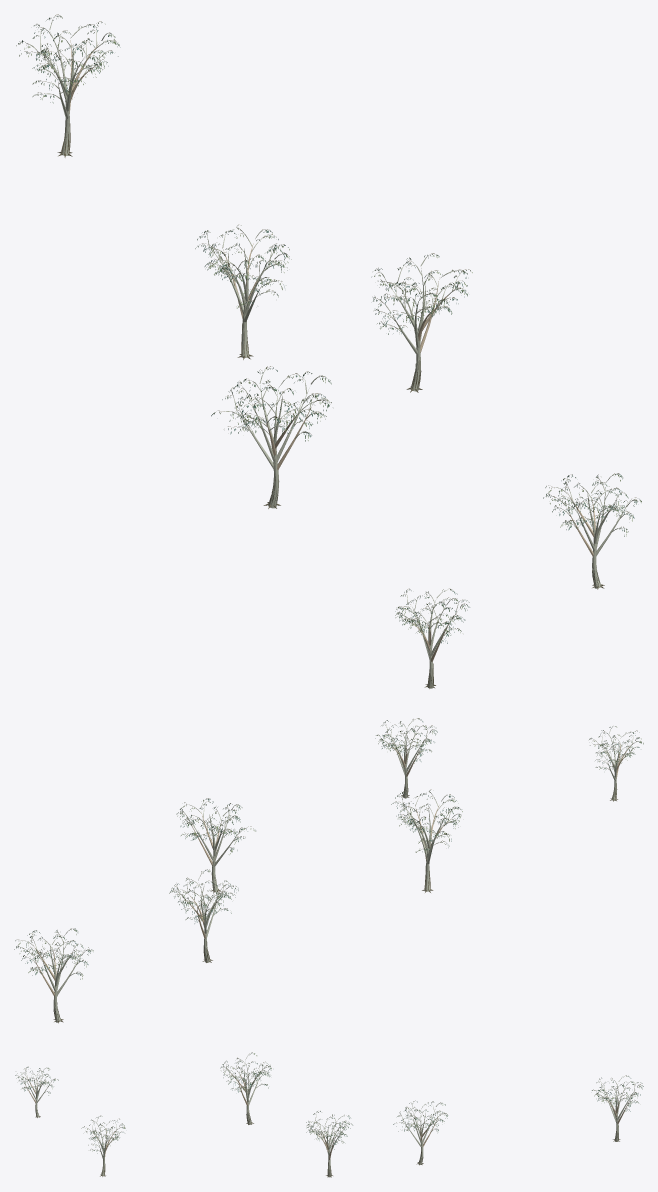
Rendered from ecology-eucalyptus-mid-7.glb.
3 renders of one model, top to bottom at view 1: azimuth 30°, elevation 25°; view 2: azimuth 150°, elevation 25°; view 3: azimuth 270°, elevation 25°, orthographic. The views are drawn at different scales.
Visible parts, largest first — view 1: eucalyptus-mid-63, eucalyptus-mid-82, eucalyptus-mid-70, eucalyptus-mid-72, eucalyptus-mid-78, eucalyptus-mid-57; view 2: eucalyptus-mid-70, eucalyptus-mid-82, eucalyptus-mid-63, eucalyptus-mid-72, eucalyptus-mid-78, eucalyptus-mid-57; view 3: eucalyptus-mid-63, eucalyptus-mid-72, eucalyptus-mid-70, eucalyptus-mid-82, eucalyptus-mid-78, eucalyptus-mid-57.
Part boxes in pixels (<box>): eucalyptus-mid-63: <box>211,366,331,508</box>; eucalyptus-mid-82: <box>371,253,472,392</box>; eucalyptus-mid-70: <box>16,14,120,157</box>; eucalyptus-mid-72: <box>195,224,291,359</box>; eucalyptus-mid-78: <box>543,473,641,589</box>; eucalyptus-mid-57: <box>395,588,469,688</box>; eucalyptus-mid-70: <box>14,928,93,1023</box>; eucalyptus-mid-82: <box>176,798,255,893</box>; eucalyptus-mid-63: <box>391,789,462,892</box>; eucalyptus-mid-72: <box>169,869,238,962</box>; eucalyptus-mid-78: <box>375,718,437,798</box>; eucalyptus-mid-57: <box>589,726,643,801</box>; eucalyptus-mid-63: <box>220,1052,271,1124</box>; eucalyptus-mid-72: <box>393,1100,447,1165</box>; eucalyptus-mid-70: <box>592,1075,643,1141</box>; eucalyptus-mid-82: <box>306,1111,352,1177</box>; eucalyptus-mid-78: <box>81,1115,125,1176</box>; eucalyptus-mid-57: <box>15,1066,58,1117</box>.
Bounding box in the file's own units: 43.67 × 21.2 × 131.
